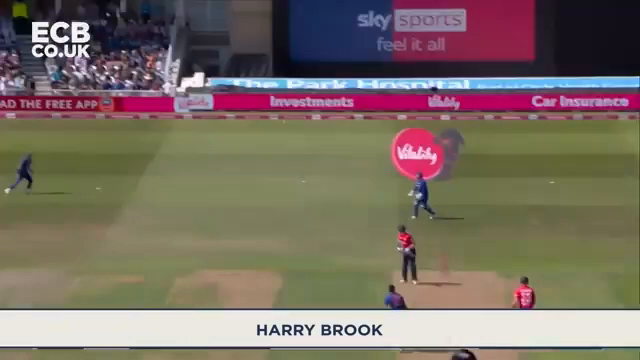Keeper: (407, 169, 442, 221)
batsman: (394, 225, 427, 287)
fielder: (5, 152, 42, 201)
